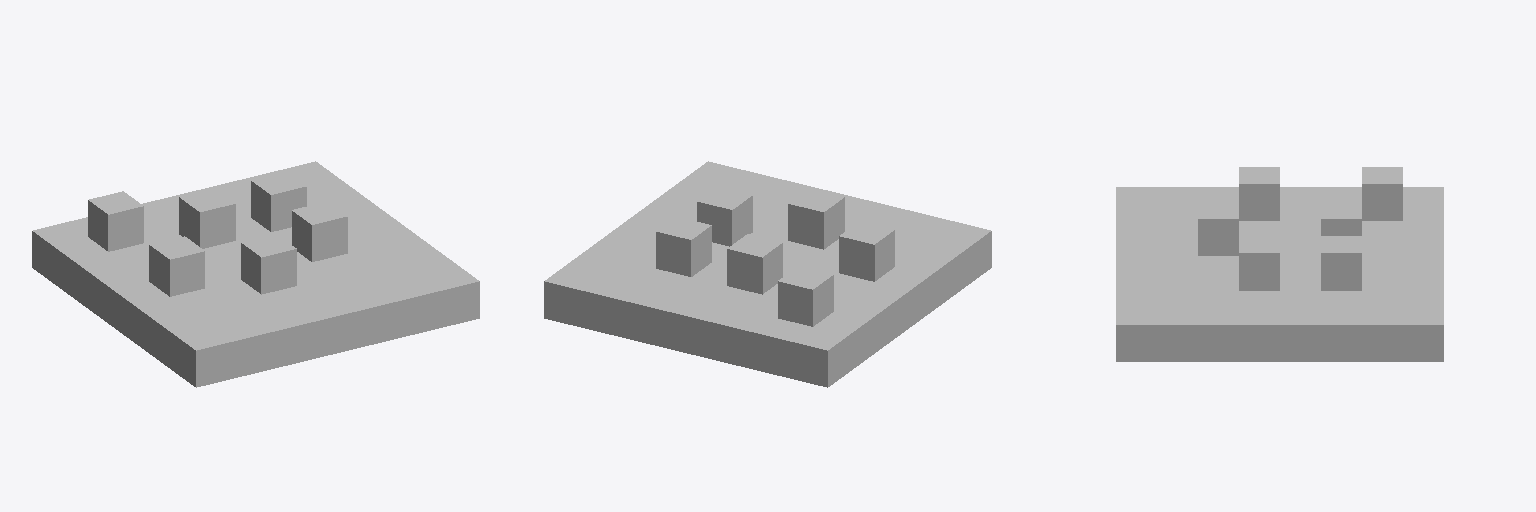
File: civ_flowers.obj
3 renders of one model, left to right at view 1: azimuth 30°, elevation 25°; view 2: azimuth 150°, elevation 25°; view 3: azimuth 270°, elevation 25°, orthographic.
Parts seen in each view (by area): view 1: mergedBlocks; view 2: mergedBlocks; view 3: mergedBlocks.
Part boxes in pixels (bbox=[...]): mergedBlocks: bbox=[32, 161, 479, 387]; mergedBlocks: bbox=[544, 161, 991, 387]; mergedBlocks: bbox=[1116, 167, 1443, 361].
Size of the model in its own units: 0.5 by 0.125 by 0.5.